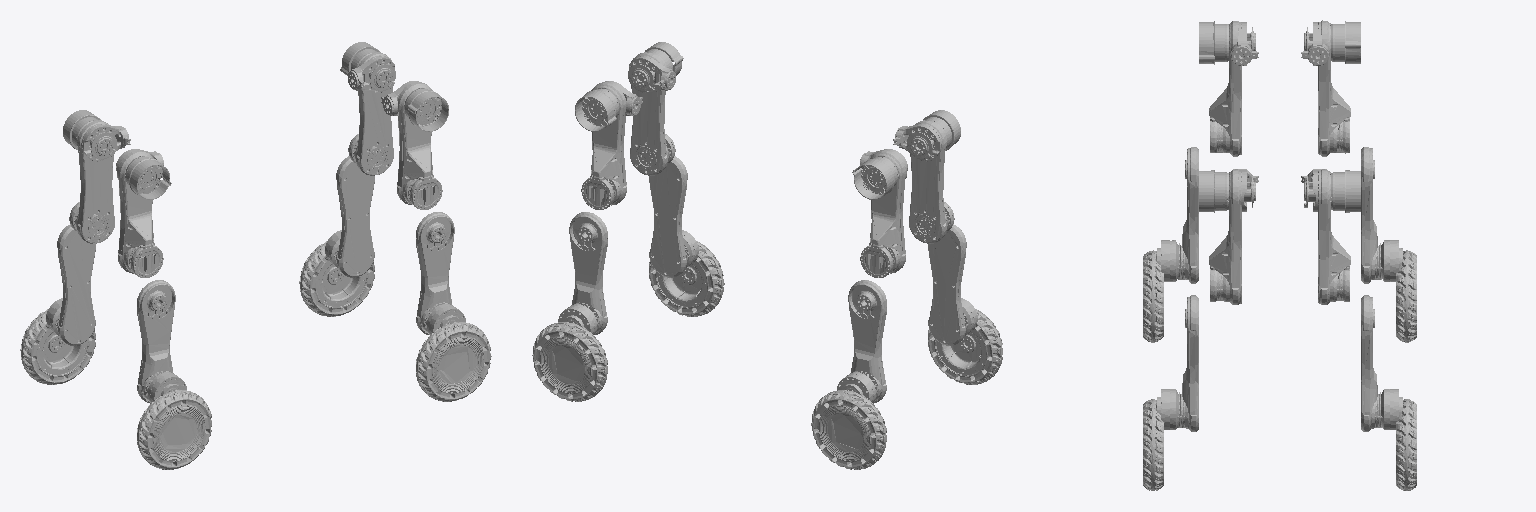
URDF robot description (M20S):
<?xml version="1.0" encoding="utf-8"?>
<!-- This URDF was automatically created by SolidWorks to URDF Exporter! Originally created by Stephen Brawner (brawner@gmail.com) 
     Commit Version: 1.6.0-4-g7f85cfe  Build Version: 1.6.7995.38578
     For more information, please see http://wiki.ros.org/sw_urdf_exporter -->
<robot name="M20S">
    <mujoco>
        <compiler meshdir="./meshes/" balanceinertia="false" discardvisual="false" fusestatic="false"/>
    </mujoco>
    <link name="base_link">
        <inertial>
            <origin xyz="0.00355105878308153 0.0016507579200937 -0.00346462146571654" rpy="0 0 0"/>
            <mass value="15.882"/>
            <inertia ixx="0.0880787" ixy="0.001396" ixz="0.000111" iyy="0.533816" iyz="0.000519" izz="0.563915"/>
        </inertial>
        <visual>
            <origin xyz="0 0 0" rpy="0 0 0"/>
            <geometry>
                <mesh filename="./meshes/base_link.STL"/>
            </geometry>
            <material name="">
                <color rgba="0.752941176470588 0.752941176470588 0.752941176470588 1"/>
            </material>
        </visual>
        <collision>
            <origin xyz="0 0 0" rpy="0 0 0"/>
            <geometry>
                <box size="0.75 0.09 0.14"/>
            </geometry>
        </collision>
        <collision>
            <origin xyz="0 0.045 0" rpy="0 1.57079632 0"/>
            <geometry>
                <cylinder length="0.75" radius="0.07"/>
            </geometry>
        </collision>
        <collision>
            <origin xyz="0 -0.045 0" rpy="0 1.57079632 0"/>
            <geometry>
                <cylinder length="0.75" radius="0.07"/>
            </geometry>
        </collision>
    </link>
    <link name="fl_hipx">
        <inertial>
            <origin xyz="-0.0111893129496933 0.00891693461032669 0.000405665689861192" rpy="0 0 0"/>
            <mass value="0.261359958476582"/>
            <inertia ixx="0.000186" ixy="0.000025" ixz="-0.000012" iyy="0.000371" iyz="-0.000008" izz="0.000288"/>
        </inertial>
        <visual>
            <origin xyz="0 0 0" rpy="0 0 0"/>
            <geometry>
                <mesh filename="./meshes/fl_hipx.STL"/>
            </geometry>
            <material name="">
                <color rgba="0.752941176470588 0.752941176470588 0.752941176470588 1"/>
            </material>
        </visual>
        <collision>
            <origin xyz="0 0.055 0" rpy="1.57079632 0 0"/>
            <geometry>
                <cylinder length="0.14" radius="0.048"/>
            </geometry>
        </collision>
    </link>
    <joint name="fl_hipx_joint" type="revolute">
        <origin xyz="0.3141 0.0685 0" rpy="0 0 0"/>
        <parent link="base_link"/>
        <child link="fl_hipx"/>
        <axis xyz="-1 0 0"/>
        <limit lower="-0.436" upper="0.611" effort="140" velocity="20.4"/>
    </joint>
    <link name="fl_hipy">
        <inertial>
            <origin xyz="-0.00199374763010413 0.0984389609045802 -0.130663565833427" rpy="0 0 0"/>
            <mass value="2.493"/>
            <inertia ixx="0.038859" ixy="-0.000023" ixz="-0.000037" iyy="0.038040" iyz="-0.005985" izz="0.003848"/>
        </inertial>
        <visual>
            <origin xyz="0 0 0" rpy="0 0 0"/>
            <geometry>
                <mesh filename="./meshes/fl_hipy.STL"/>
            </geometry>
            <material name="">
                <color rgba="0.752941176470588 0.752941176470588 0.752941176470588 1"/>
            </material>
        </visual>
        <collision>
            <origin xyz="-0.01 0.11 -0.125" rpy="0 0 0"/>
            <geometry>
                <box size="0.08 0.035 0.26"/>
            </geometry>
        </collision>
        <collision>
            <origin xyz="0 0.11 -0.25" rpy="1.57079632 0 0"/>
            <geometry>
                <cylinder length="0.09" radius="0.05"/>
            </geometry>
        </collision>
    </link>
    <joint name="fl_hipy_joint" type="revolute">
        <origin xyz="0 0 0" rpy="0 0 0"/>
        <parent link="fl_hipx"/>
        <child link="fl_hipy"/>
        <axis xyz="0 -1 0"/>
        <limit lower="-2.286" upper="2.583" effort="140" velocity="20.4"/>
    </joint>
    <link name="fl_knee">
        <inertial>
            <origin xyz="0.00341916513259743 0.0026912421076368 -0.181265498605881" rpy="0 0 0"/>
            <mass value="1.26"/>
            <inertia ixx="0.012936" ixy="-0.000053" ixz="0.000226" iyy="0.013123" iyz="-0.001681" izz="0.001283"/>
        </inertial>
        <visual>
            <origin xyz="0 0 0" rpy="0 0 0"/>
            <geometry>
                <mesh filename="./meshes/fl_knee.STL"/>
            </geometry>
            <material name="">
                <color rgba="0.752941176470588 0.752941176470588 0.752941176470588 1"/>
            </material>
        </visual>
        <collision>
            <origin xyz="0.015 -0.015 -0.135" rpy="0 0 0"/>
            <geometry>
                <box size="0.07 0.035 0.27"/>
            </geometry>
        </collision>
        <collision>
            <origin xyz="0 0.02 -0.25" rpy="1.57079632 0 0"/>
            <geometry>
                <cylinder length="0.1" radius="0.04"/>
            </geometry>
        </collision>
    </link>
    <joint name="fl_knee_joint" type="revolute">
        <origin xyz="0 0.0984 -0.25" rpy="0 0 0"/>
        <parent link="fl_hipy"/>
        <child link="fl_knee"/>
        <axis xyz="0 -1 0"/>
        <limit lower="-2.810" upper="2.793" effort="140" velocity="20.4"/>
    </joint>
    <link name="fl_wheel">
        <inertial>
            <origin xyz="-3.11398454355682E-07 0.000279001520740008 5.70329233673394E-07" rpy="0 0 0"/>
            <mass value="0.638"/>
            <inertia ixx="0.001535" ixy="0.0" ixz="0.0" iyy="0.002853" iyz="0.0" izz="0.001535"/>
        </inertial>
        <visual>
            <origin xyz="0 0 0" rpy="0 0 0"/>
            <geometry>
                <mesh filename="./meshes/fl_wheel.STL"/>
            </geometry>
            <material name="">
                <color rgba="0.752941176470588 0.752941176470588 0.752941176470588 1"/>
            </material>
        </visual>
        <collision>
            <origin xyz="0 0 0" rpy="1.57079632 0 0"/>
            <geometry>
                <cylinder length="0.054" radius="0.09"/>
            </geometry>
        </collision>
    </link>
    <joint name="fl_wheel_joint" type="continuous">
        <origin xyz="0 0.059676 -0.25" rpy="0 0 0"/>
        <parent link="fl_knee"/>
        <child link="fl_wheel"/>
        <axis xyz="0 -1 0"/>
        <limit effort="28.5" velocity="104.45"/>
    </joint>
    <link name="fr_hipx">
        <inertial>
            <origin xyz="-0.0110900940309543 -0.0087503473771439 0.000521421017057358" rpy="0 0 0"/>
            <mass value="0.261359958476582"/>
            <inertia ixx="0.000186" ixy="-0.000026" ixz="-0.000012" iyy="0.000371" iyz="0.000008" izz="0.000288"/>
        </inertial>
        <visual>
            <origin xyz="0 0 0" rpy="0 0 0"/>
            <geometry>
                <mesh filename="./meshes/fr_hipx.STL"/>
            </geometry>
            <material name="">
                <color rgba="0.752941176470588 0.752941176470588 0.752941176470588 1"/>
            </material>
        </visual>
        <collision>
            <origin xyz="0 -0.055 0" rpy="1.57079632 0 0"/>
            <geometry>
                <cylinder length="0.14" radius="0.048"/>
            </geometry>
        </collision>
    </link>
    <joint name="fr_hipx_joint" type="revolute">
        <origin xyz="0.3141 -0.0685 0" rpy="0 0 0"/>
        <parent link="base_link"/>
        <child link="fr_hipx"/>
        <axis xyz="-1 0 0"/>
        <limit lower="-0.611" upper="0.436" effort="140" velocity="20.4"/>
    </joint>
    <link name="fr_hipy">
        <inertial>
            <origin xyz="-0.00229991904853988 -0.0989709441053532 -0.130925037640537" rpy="0 0 0"/>
            <mass value="2.493"/>
            <inertia ixx="0.039277" ixy="0.000005" ixz="-0.000063" iyy="0.038485" iyz="0.005970" izz="0.003921"/>
        </inertial>
        <visual>
            <origin xyz="0 0 0" rpy="0 0 0"/>
            <geometry>
                <mesh filename="./meshes/fr_hipy.STL"/>
            </geometry>
            <material name="">
                <color rgba="0.752941176470588 0.752941176470588 0.752941176470588 1"/>
            </material>
        </visual>
        <collision>
            <origin xyz="-0.01 -0.11 -0.125" rpy="0 0 0"/>
            <geometry>
                <box size="0.08 0.035 0.26"/>
            </geometry>
        </collision>
        <collision>
            <origin xyz="0 -0.11 -0.25" rpy="1.57079632 0 0"/>
            <geometry>
                <cylinder length="0.09" radius="0.05"/>
            </geometry>
        </collision>
    </link>
    <joint name="fr_hipy_joint" type="revolute">
        <origin xyz="0 0 0" rpy="0 0 0"/>
        <parent link="fr_hipx"/>
        <child link="fr_hipy"/>
        <axis xyz="0 -1 0"/>
        <limit lower="-2.286" upper="2.583" effort="140" velocity="20.4"/>
    </joint>
    <link name="fr_knee">
        <inertial>
            <origin xyz="0.0035494546955584 -0.002478843181213 -0.180089236444296" rpy="0 0 0"/>
            <mass value="1.26"/>
            <inertia ixx="0.012936" ixy="0.000053" ixz="0.000226" iyy="0.013123" iyz="0.001681" izz="0.001283"/>
        </inertial>
        <visual>
            <origin xyz="0 0 0" rpy="0 0 0"/>
            <geometry>
                <mesh filename="./meshes/fr_knee.STL"/>
            </geometry>
            <material name="">
                <color rgba="0.752941176470588 0.752941176470588 0.752941176470588 1"/>
            </material>
        </visual>
        <collision>
            <origin xyz="0.015 0.015 -0.135" rpy="0 0 0"/>
            <geometry>
                <box size="0.07 0.035 0.27"/>
            </geometry>
        </collision>
        <collision>
            <origin xyz="0 -0.02 -0.25" rpy="1.57079632 0 0"/>
            <geometry>
                <cylinder length="0.1" radius="0.04"/>
            </geometry>
        </collision>
    </link>
    <joint name="fr_knee_joint" type="revolute">
        <origin xyz="0 -0.0984 -0.25" rpy="0 0 0"/>
        <parent link="fr_hipy"/>
        <child link="fr_knee"/>
        <axis xyz="0 -1 0"/>
        <limit lower="-2.810" upper="2.793" effort="140" velocity="20.4"/>
    </joint>
    <link name="fr_wheel">
        <inertial>
            <origin xyz="-6.4732687427016E-07 -0.000279012463466427 -4.62420470803693E-08" rpy="0 0 0"/>
            <mass value="0.638"/>
            <inertia ixx="0.001535" ixy="0.0" ixz="0.0" iyy="0.002853" iyz="0.0" izz="0.001535"/>
        </inertial>
        <visual>
            <origin xyz="0 0 0" rpy="0 0 0"/>
            <geometry>
                <mesh filename="./meshes/fr_wheel.STL"/>
            </geometry>
            <material name="">
                <color rgba="0.752941176470588 0.752941176470588 0.752941176470588 1"/>
            </material>
        </visual>
        <collision>
            <origin xyz="0 0 0" rpy="1.57079632 0 0"/>
            <geometry>
                <cylinder length="0.054" radius="0.09"/>
            </geometry>
        </collision>
    </link>
    <joint name="fr_wheel_joint" type="continuous">
        <origin xyz="0 -0.059676 -0.25" rpy="0 0 0"/>
        <parent link="fr_knee"/>
        <child link="fr_wheel"/>
        <axis xyz="0 -1 0"/>
        <limit effort="28.5" velocity="104.45"/>
    </joint>
    <link name="hl_hipx">
        <inertial>
            <origin xyz="0.0110900940233134 0.00875014035040743 0.000524883746291591" rpy="0 0 0"/>
            <mass value="0.261359958476582"/>
            <inertia ixx="0.000186" ixy="-0.000025" ixz="0.000012" iyy="0.000371" iyz="-0.000008" izz="0.000288"/>
        </inertial>
        <visual>
            <origin xyz="0 0 0" rpy="0 0 0"/>
            <geometry>
                <mesh filename="./meshes/hl_hipx.STL"/>
            </geometry>
            <material name="">
                <color rgba="0.752941176470588 0.752941176470588 0.752941176470588 1"/>
            </material>
        </visual>
        <collision>
            <origin xyz="0 0.055 0" rpy="1.57079632 0 0"/>
            <geometry>
                <cylinder length="0.14" radius="0.048"/>
            </geometry>
        </collision>
    </link>
    <joint name="hl_hipx_joint" type="revolute">
        <origin xyz="-0.3141 0.0685 0" rpy="0 0 0"/>
        <parent link="base_link"/>
        <child link="hl_hipx"/>
        <axis xyz="-1 0 0"/>
        <limit lower="-0.436" upper="0.611" effort="140" velocity="20.4"/>
    </joint>
    <link name="hl_hipy">
        <inertial>
            <origin xyz="0.00204343366218146 0.0990227473833045 -0.13069726691312" rpy="0 0 0"/>
            <mass value="2.493"/>
            <inertia ixx="0.039361" ixy="0.000029" ixz="0.000009" iyy="0.038554" iyz="-0.006001" izz="0.003914"/>
        </inertial>
        <visual>
            <origin xyz="0 0 0" rpy="0 0 0"/>
            <geometry>
                <mesh filename="./meshes/hl_hipy.STL"/>
            </geometry>
            <material name="">
                <color rgba="0.752941176470588 0.752941176470588 0.752941176470588 1"/>
            </material>
        </visual>
        <collision>
            <origin xyz="0.01 0.11 -0.125" rpy="0 0 0"/>
            <geometry>
                <box size="0.08 0.035 0.26"/>
            </geometry>
        </collision>
        <collision>
            <origin xyz="0 0.11 -0.25" rpy="1.57079632 0 0"/>
            <geometry>
                <cylinder length="0.09" radius="0.05"/>
            </geometry>
        </collision>
    </link>
    <joint name="hl_hipy_joint" type="revolute">
        <origin xyz="0 0 0" rpy="0 0 0"/>
        <parent link="hl_hipx"/>
        <child link="hl_hipy"/>
        <axis xyz="0 -1 0"/>
        <limit lower="-2.583" upper="2.286" effort="140" velocity="20.4"/>
    </joint>
    <link name="hl_knee">
        <inertial>
            <origin xyz="-0.00354945209738589 0.00247884637205834 -0.180089257150601" rpy="0 0 0"/>
            <mass value="1.26"/>
            <inertia ixx="0.012936" ixy="0.000053" ixz="-0.000226" iyy="0.013123" iyz="-0.001681" izz="0.001283"/>
        </inertial>
        <visual>
            <origin xyz="0 0 0" rpy="0 0 0"/>
            <geometry>
                <mesh filename="./meshes/hl_knee.STL"/>
            </geometry>
            <material name="">
                <color rgba="0.752941176470588 0.752941176470588 0.752941176470588 1"/>
            </material>
        </visual>
        <collision>
            <origin xyz="-0.015 -0.015 -0.135" rpy="0 0 0"/>
            <geometry>
                <box size="0.07 0.035 0.27"/>
            </geometry>
        </collision>
        <collision>
            <origin xyz="0 0.02 -0.25" rpy="1.57079632 0 0"/>
            <geometry>
                <cylinder length="0.1" radius="0.04"/>
            </geometry>
        </collision>
    </link>
    <joint name="hl_knee_joint" type="revolute">
        <origin xyz="0 0.0984 -0.25" rpy="0 0 0"/>
        <parent link="hl_hipy"/>
        <child link="hl_knee"/>
        <axis xyz="0 -1 0"/>
        <limit lower="-2.793" upper="2.810" effort="140" velocity="20.4"/>
    </joint>
    <link name="hl_wheel">
        <inertial>
            <origin xyz="-6.07889369508285E-07 0.000279009097070765 2.10489879304276E-07" rpy="0 0 0"/>
            <mass value="0.638"/>
            <inertia ixx="0.001535" ixy="0.0" ixz="0.0" iyy="0.002853" iyz="0.0" izz="0.001535"/>
        </inertial>
        <visual>
            <origin xyz="0 0 0" rpy="0 0 0"/>
            <geometry>
                <mesh filename="./meshes/hl_wheel.STL"/>
            </geometry>
            <material name="">
                <color rgba="0.752941176470588 0.752941176470588 0.752941176470588 1"/>
            </material>
        </visual>
        <collision>
            <origin xyz="0 0 0" rpy="1.57079632 0 0"/>
            <geometry>
                <cylinder length="0.054" radius="0.09"/>
            </geometry>
        </collision>
    </link>
    <joint name="hl_wheel_joint" type="continuous">
        <origin xyz="0 0.059676 -0.25" rpy="0 0 0"/>
        <parent link="hl_knee"/>
        <child link="hl_wheel"/>
        <axis xyz="0 -1 0"/>
        <limit effort="28.5" velocity="104.45"/>
    </joint>
    <link name="hr_hipx">
        <inertial>
            <origin xyz="0.0110901558226165 -0.00875011717083631 0.000524936954718227" rpy="0 0 0"/>
            <mass value="0.261359958476582"/>
            <inertia ixx="0.000186" ixy="0.000025" ixz="0.000012" iyy="0.000371" iyz="0.000008" izz="0.000288"/>
        </inertial>
        <visual>
            <origin xyz="0 0 0" rpy="0 0 0"/>
            <geometry>
                <mesh filename="./meshes/hr_hipx.STL"/>
            </geometry>
            <material name="">
                <color rgba="0.752941176470588 0.752941176470588 0.752941176470588 1"/>
            </material>
        </visual>
        <collision>
            <origin xyz="0 -0.055 0" rpy="1.57079632 0 0"/>
            <geometry>
                <cylinder length="0.14" radius="0.048"/>
            </geometry>
        </collision>
    </link>
    <joint name="hr_hipx_joint" type="revolute">
        <origin xyz="-0.3141 -0.0685 0" rpy="0 0 0"/>
        <parent link="base_link"/>
        <child link="hr_hipx"/>
        <axis xyz="-1 0 0"/>
        <limit lower="-0.611" upper="0.436" effort="140" velocity="20.4"/>
    </joint>
    <link name="hr_hipy">
        <inertial>
            <origin xyz="0.00199199678434109 -0.0983704174694303 -0.13056065751366" rpy="0 0 0"/>
            <mass value="2.493"/>
            <inertia ixx="0.038878" ixy="-0.000022" ixz="0.000034" iyy="0.038053" iyz="0.005995" izz="0.003854"/>
        </inertial>
        <visual>
            <origin xyz="0 0 0" rpy="0 0 0"/>
            <geometry>
                <mesh filename="./meshes/hr_hipy.STL"/>
            </geometry>
            <material name="">
                <color rgba="0.752941176470588 0.752941176470588 0.752941176470588 1"/>
            </material>
        </visual>
        <collision>
            <origin xyz="0.01 -0.11 -0.125" rpy="0 0 0"/>
            <geometry>
                <box size="0.08 0.035 0.26"/>
            </geometry>
        </collision>
        <collision>
            <origin xyz="0 -0.11 -0.25" rpy="1.57079632 0 0"/>
            <geometry>
                <cylinder length="0.09" radius="0.05"/>
            </geometry>
        </collision>
    </link>
    <joint name="hr_hipy_joint" type="revolute">
        <origin xyz="0 0 0" rpy="0 0 0"/>
        <parent link="hr_hipx"/>
        <child link="hr_hipy"/>
        <axis xyz="0 -1 0"/>
        <limit lower="-2.583" upper="2.286" effort="140" velocity="20.4"/>
    </joint>
    <link name="hr_knee">
        <inertial>
            <origin xyz="-0.00341053036115846 -0.0027020185369851 -0.181287492263963" rpy="0 0 0"/>
            <mass value="1.26"/>
            <inertia ixx="0.012936" ixy="-0.000053" ixz="-0.000226" iyy="0.013123" iyz="0.001681" izz="0.001283"/>
        </inertial>
        <visual>
            <origin xyz="0 0 0" rpy="0 0 0"/>
            <geometry>
                <mesh filename="./meshes/hr_knee.STL"/>
            </geometry>
            <material name="">
                <color rgba="0.752941176470588 0.752941176470588 0.752941176470588 1"/>
            </material>
        </visual>
        <collision>
            <origin xyz="-0.015 0.015 -0.135" rpy="0 0 0"/>
            <geometry>
                <box size="0.07 0.035 0.27"/>
            </geometry>
        </collision>
        <collision>
            <origin xyz="0 -0.02 -0.25" rpy="1.57079632 0 0"/>
            <geometry>
                <cylinder length="0.1" radius="0.04"/>
            </geometry>
        </collision>
    </link>
    <joint name="hr_knee_joint" type="revolute">
        <origin xyz="0 -0.0984 -0.25" rpy="0 0 0"/>
        <parent link="hr_hipy"/>
        <child link="hr_knee"/>
        <axis xyz="0 -1 0"/>
        <limit lower="-2.793" upper="2.810" effort="140" velocity="20.4"/>
    </joint>
    <link name="hr_wheel">
        <inertial>
            <origin xyz="6.09746291457824E-07 -0.00027900886004309 2.0131377032051E-07" rpy="0 0 0"/>
            <mass value="0.638"/>
            <inertia ixx="0.001535" ixy="0.0" ixz="0.0" iyy="0.002853" iyz="0.0" izz="0.001535"/>
        </inertial>
        <visual>
            <origin xyz="0 0 0" rpy="0 0 0"/>
            <geometry>
                <mesh filename="./meshes/hr_wheel.STL"/>
            </geometry>
            <material name="">
                <color rgba="0.752941176470588 0.752941176470588 0.752941176470588 1"/>
            </material>
        </visual>
        <collision>
            <origin xyz="0 0 0" rpy="1.57079632 0 0"/>
            <geometry>
                <cylinder length="0.054" radius="0.09"/>
            </geometry>
        </collision>
    </link>
    <joint name="hr_wheel_joint" type="continuous">
        <origin xyz="0 -0.059676 -0.25" rpy="0 0 0"/>
        <parent link="hr_knee"/>
        <child link="hr_wheel"/>
        <axis xyz="0 -1 0"/>
        <limit effort="28.5" velocity="104.45"/>
    </joint>
    <!-- CA9B sensor frames. Translations are converted from millimeters to meters.
         The source document specifies no additional rotation for these sensors. -->
    <link name="front_camera_link"/>
    <joint name="front_camera_joint" type="fixed">
        <origin xyz="0.37646 0 0.03738" rpy="0 0 0"/>
        <parent link="base_link"/>
        <child link="front_camera_link"/>
    </joint>

    <link name="rear_camera_link"/>
    <joint name="rear_camera_joint" type="fixed">
        <origin xyz="-0.37646 0 0.03738" rpy="0 0 0"/>
        <parent link="base_link"/>
        <child link="rear_camera_link"/>
    </joint>

    <link name="front_lidar_link"/>
    <joint name="front_lidar_joint" type="fixed">
        <origin xyz="0.32028 0 -0.013" rpy="0 0 0"/>
        <parent link="base_link"/>
        <child link="front_lidar_link"/>
    </joint>

    <link name="rear_lidar_link"/>
    <joint name="rear_lidar_joint" type="fixed">
        <origin xyz="-0.32028 0 -0.013" rpy="0 0 0"/>
        <parent link="base_link"/>
        <child link="rear_lidar_link"/>
    </joint>
</robot>

--- Facts derived from the render (not from the file) ---
3 views of the same robot in one strip: view 1: azimuth 30°, elevation 25°; view 2: azimuth 150°, elevation 25°; view 3: azimuth 270°, elevation 25° (orthographic).
Robot: M20S — 21 links, 20 joints (12 revolute, 4 continuous, 4 fixed); root link base_link; default pose: all joints at 0.
Links seen in each view (by area): view 1: hr_wheel, fr_wheel, hr_knee, fl_knee, fr_knee, hl_knee, hl_hipy, fl_hipy, hr_hipy, fr_hipy, hl_wheel, fl_wheel (+4 smaller); view 2: hl_wheel, fl_wheel, fr_knee, hr_knee, hl_knee, fl_knee, hr_hipy, fr_hipy, hl_hipy, fl_hipy, hr_wheel, fr_wheel (+4 smaller); view 3: fl_hipy, fr_hipy, hl_knee, hr_knee, fr_knee, fl_knee, hl_hipy, hr_hipy, hl_hipx, hr_hipx, hl_wheel, hr_wheel (+4 smaller).
Boxes of the visible links, <box> form: hr_wheel: <box>137,390,211,469</box>; fr_wheel: <box>416,322,491,401</box>; hr_knee: <box>137,280,186,403</box>; fl_knee: <box>325,156,374,277</box>; fr_knee: <box>416,212,465,334</box>; hl_knee: <box>46,224,95,345</box>; hl_hipy: <box>69,120,116,243</box>; fl_hipy: <box>348,52,395,175</box>; hr_hipy: <box>116,150,163,277</box>; fr_hipy: <box>397,82,442,209</box>; hl_wheel: <box>20,309,95,384</box>; fl_wheel: <box>299,241,374,316</box>; hl_wheel: <box>811,390,886,469</box>; fl_wheel: <box>532,322,607,401</box>; fr_knee: <box>649,156,698,277</box>; hr_knee: <box>928,224,977,345</box>; hl_knee: <box>837,280,886,403</box>; fl_knee: <box>558,212,607,334</box>; hr_hipy: <box>907,120,954,243</box>; fr_hipy: <box>628,52,675,175</box>; hl_hipy: <box>860,150,907,277</box>; fl_hipy: <box>581,82,626,209</box>; hr_wheel: <box>928,309,1002,384</box>; fr_wheel: <box>649,241,724,316</box>; fl_hipy: <box>1304,169,1350,304</box>; fr_hipy: <box>1209,169,1255,304</box>; hl_knee: <box>1361,147,1402,283</box>; hr_knee: <box>1157,147,1198,283</box>; fr_knee: <box>1157,295,1198,431</box>; fl_knee: <box>1361,295,1402,431</box>; hl_hipy: <box>1304,20,1350,156</box>; hr_hipy: <box>1209,21,1255,156</box>; hl_hipx: <box>1301,21,1360,65</box>; hr_hipx: <box>1199,21,1258,65</box>; hl_wheel: <box>1396,250,1416,342</box>; hr_wheel: <box>1143,250,1163,342</box>.
Bounding box of the posed robot: 0.7934 × 0.4907 × 0.6223 m (x, y, z).
16 mesh visuals loaded from 17 distinct referenced files (16 binary STL); not drawn: 1 (reference not matched to a file when rendering).
